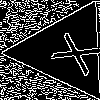X: (40, 26, 100, 77)
